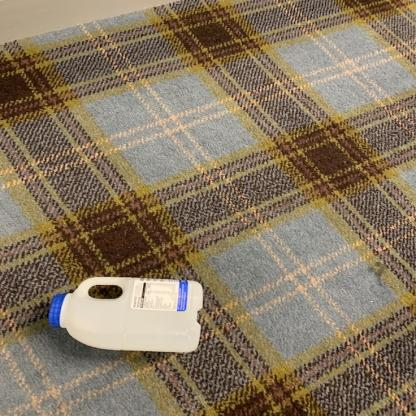trash: (46, 274, 208, 355)
